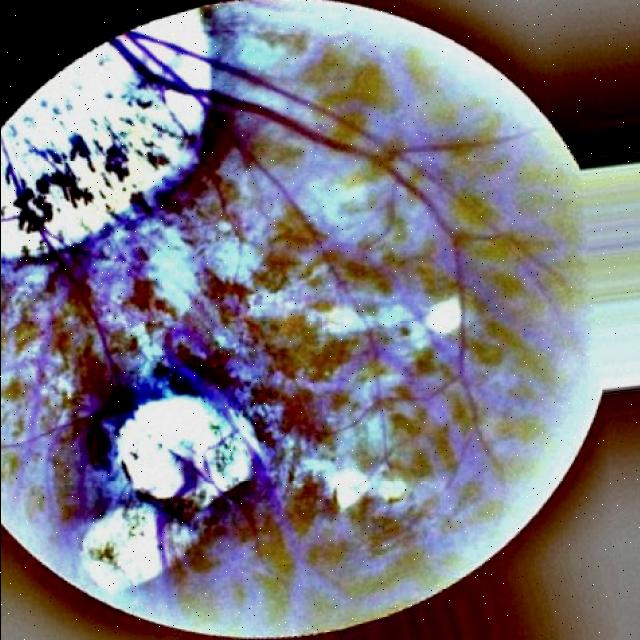Macula: (88, 367, 205, 472)
Nerves: (137, 40, 461, 240), (136, 33, 516, 154), (0, 136, 114, 366)
Optic Disk: (0, 5, 211, 260)
